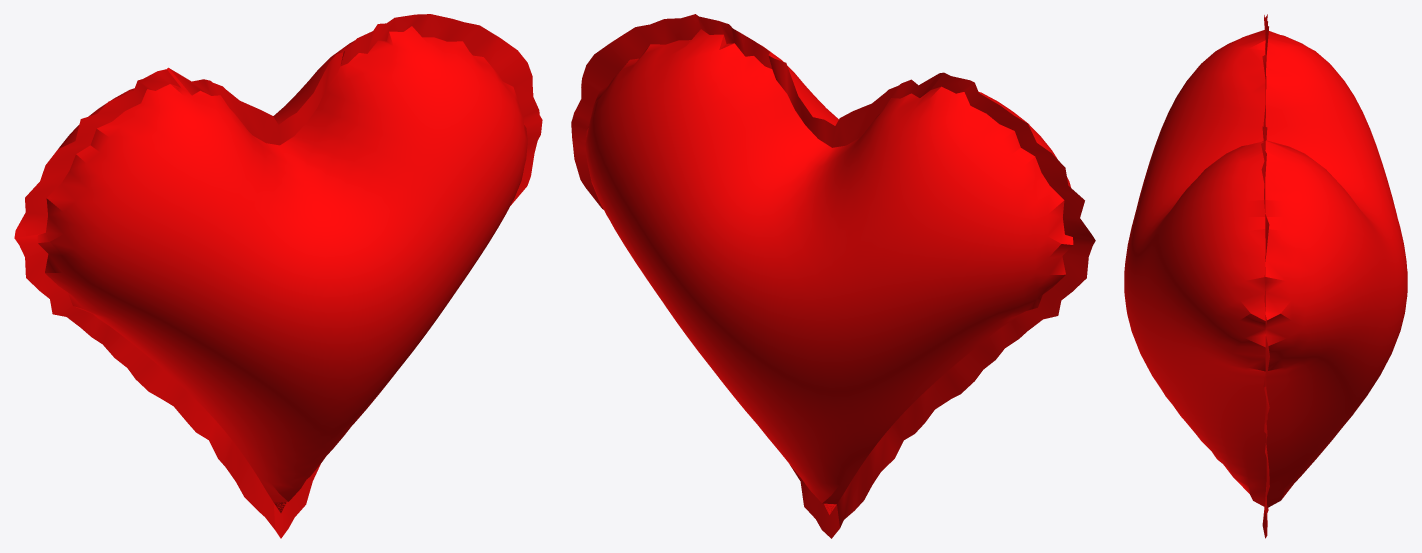
File: ballon_heart.glb
3 views of the same model, side by side, from view 1: azimuth 30°, elevation 25°; view 2: azimuth 150°, elevation 25°; view 3: azimuth 270°, elevation 25° (orthographic). The views are drawn at different scales.
Parts seen in each view (by area): view 1: Heart Balloon; view 2: Heart Balloon; view 3: Heart Balloon.
Boxes of the visible parts, left/top/right/bottom form: Heart Balloon: left=14, top=14, right=542, bottom=538; Heart Balloon: left=571, top=14, right=1095, bottom=538; Heart Balloon: left=1124, top=14, right=1407, bottom=538.
Bounding box in the file's own units: 0.5 × 0.45 × 0.25.
